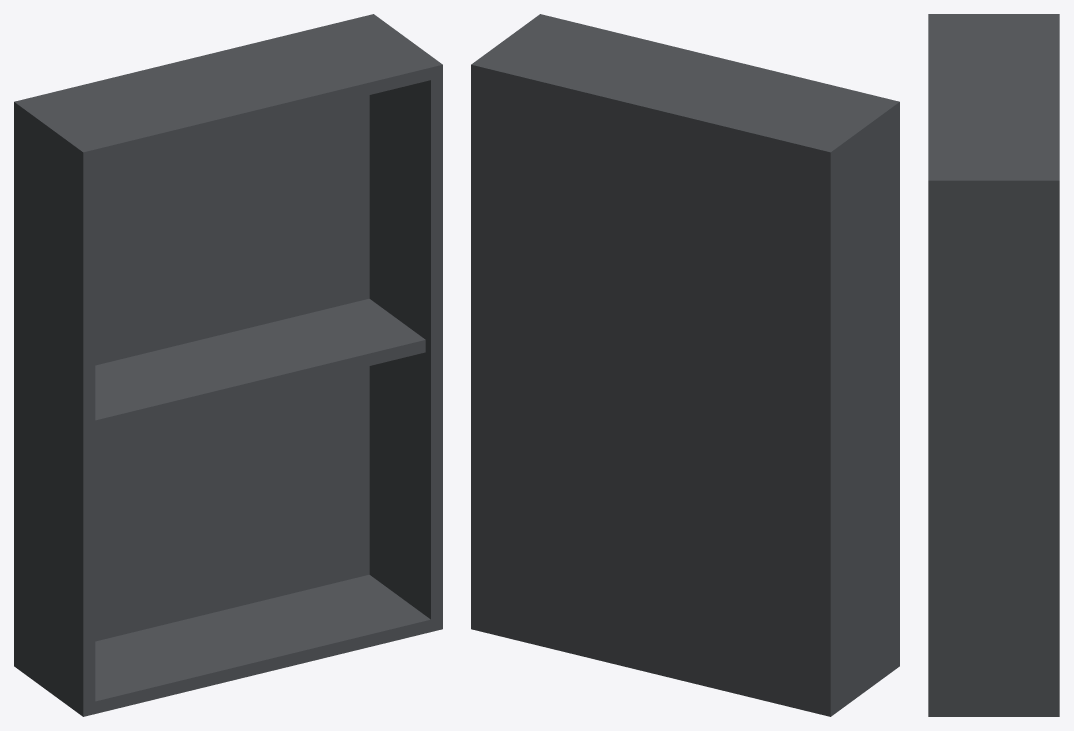
File: Bathroom_C3_05.fbx
3 views of the same model, side by side, from view 1: azimuth 30°, elevation 25°; view 2: azimuth 150°, elevation 25°; view 3: azimuth 270°, elevation 25° (orthographic). The views are drawn at different scales.
Parts seen in each view (by area): view 1: Bathroom_C3_05; view 2: Bathroom_C3_05; view 3: Bathroom_C3_05.
Boxes of the visible parts, <box> form: Bathroom_C3_05: <box>14,14,442,716</box>; Bathroom_C3_05: <box>471,14,899,716</box>; Bathroom_C3_05: <box>928,14,1059,716</box>.
Size of the model in its own units: 60 by 90 by 20.
